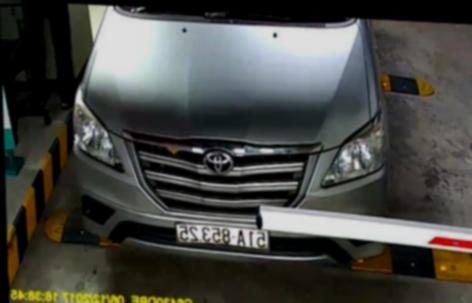License_Plate: (169, 216, 276, 256)
